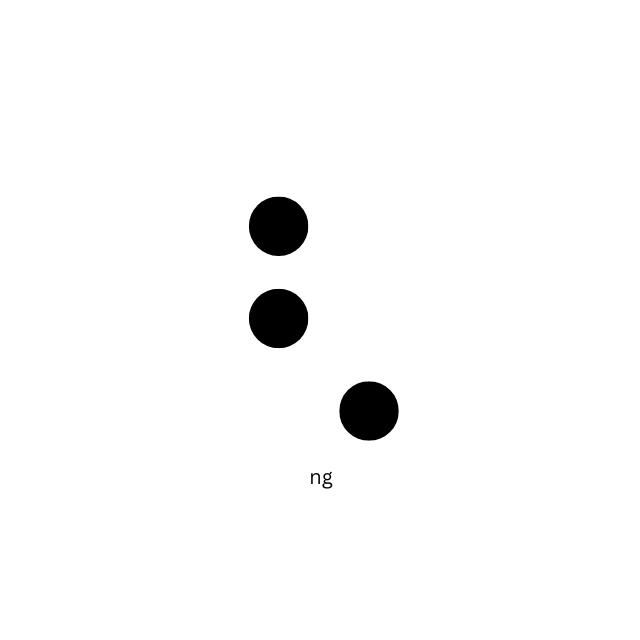one_cell_non_alphabet_ng: (246, 195, 401, 442)
